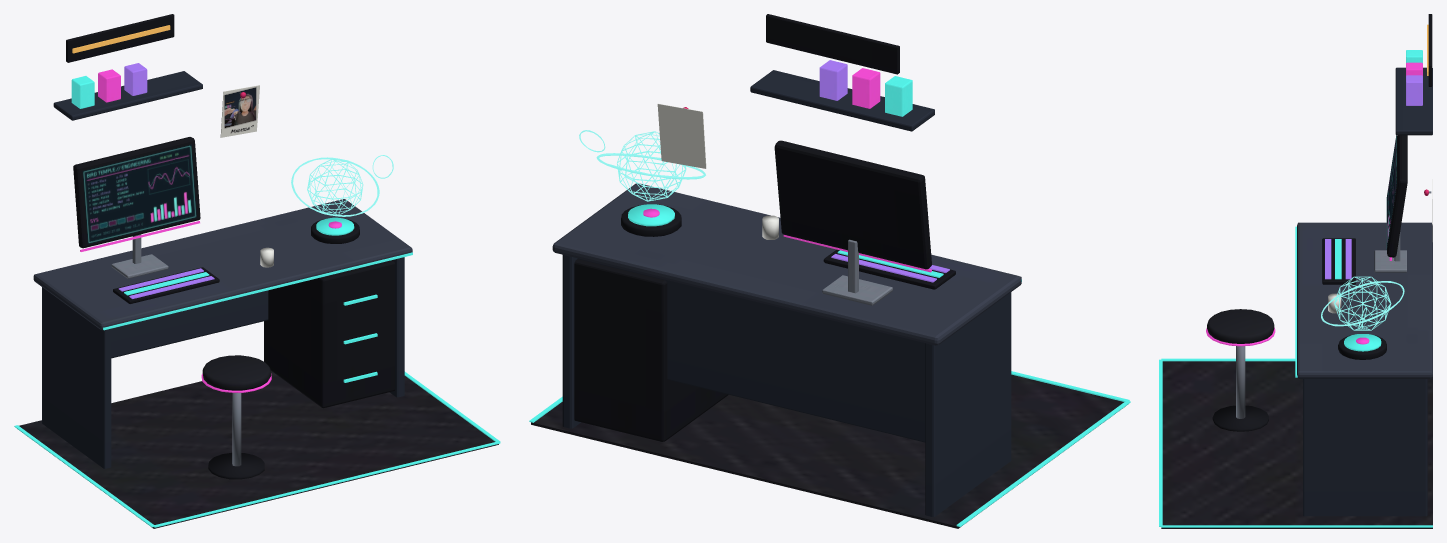
File: bt-engineering.glb
3 views of the same model, side by side, from view 1: azimuth 30°, elevation 25°; view 2: azimuth 150°, elevation 25°; view 3: azimuth 270°, elevation 25° (orthographic). The views are drawn at different scales.
Parts seen in each view (by area): view 1: BTE_Felt, BTE_Glow, BTE_Screen, FX_BTE_Holo, BTE_Polaroid; view 2: BTE_Felt, BTE_Glow, BTE_Polaroid, FX_BTE_Holo; view 3: BTE_Felt, BTE_Glow, FX_BTE_Holo, BTE_Screen.
Boxes of the visible parts, box(x1,y1,x2,y2) form: BTE_Felt: box(19, 14, 498, 528); BTE_Glow: box(14, 25, 500, 527); BTE_Screen: box(82, 144, 196, 244); FX_BTE_Holo: box(291, 155, 393, 216); BTE_Polaroid: box(220, 85, 259, 137); BTE_Felt: box(531, 14, 1125, 528); BTE_Glow: box(529, 60, 1130, 526); BTE_Polaroid: box(657, 103, 706, 168); FX_BTE_Holo: box(579, 130, 705, 201); BTE_Felt: box(1161, 14, 1432, 528); BTE_Glow: box(1159, 24, 1432, 527); FX_BTE_Holo: box(1321, 276, 1404, 330); BTE_Screen: box(1386, 135, 1396, 249).
Size of what is drawn, in the model's own units: 4.24 by 4.38 by 2.92.
5 materials, 4 textured.
